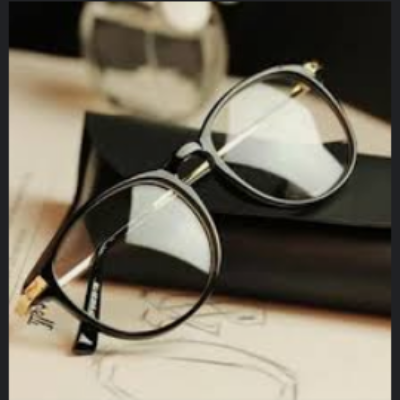glasses: (16, 51, 361, 358)
